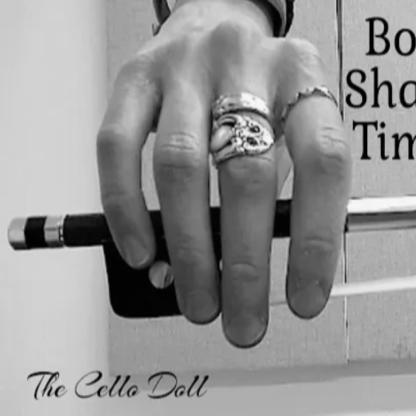good: (84, 20, 355, 366)
